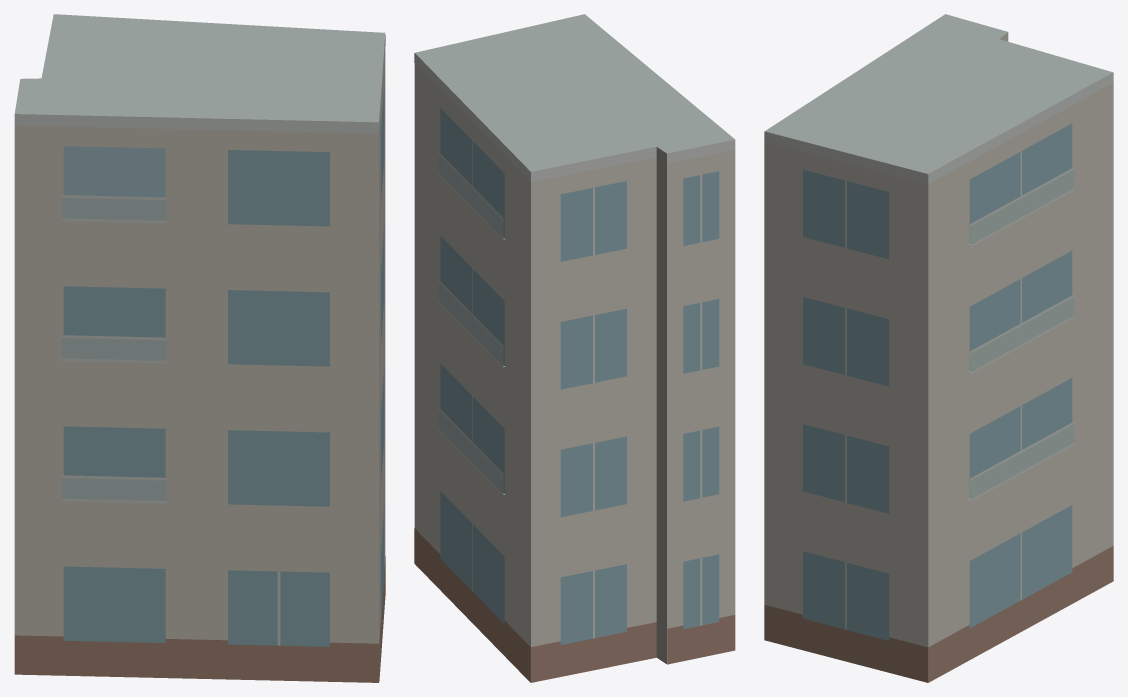
Rendered from survey-upis-32756906.glb.
3 renders of one model, left to right at view 1: azimuth 30°, elevation 25°; view 2: azimuth 150°, elevation 25°; view 3: azimuth 270°, elevation 25°, orthographic. The views are drawn at different scales.
Visible parts, largest first — view 1: survey-upis-32756906.tmp; view 2: survey-upis-32756906.tmp; view 3: survey-upis-32756906.tmp.
Part boxes in pixels (x1,y1,x2,y2): survey-upis-32756906.tmp: [14, 14, 385, 682]; survey-upis-32756906.tmp: [414, 14, 735, 682]; survey-upis-32756906.tmp: [764, 14, 1113, 682].
Size of the model in its own units: 8.17 by 12.1 by 7.53.
